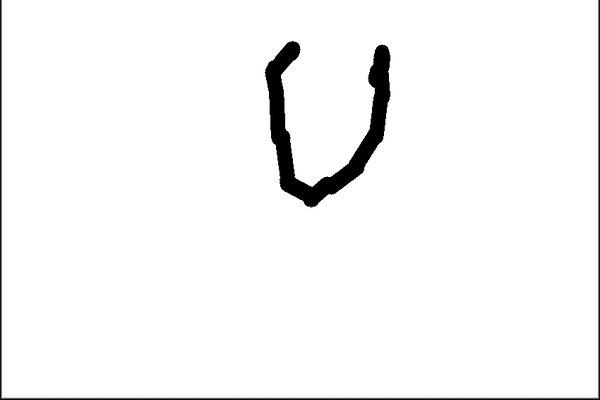U: (255, 34, 399, 211)
